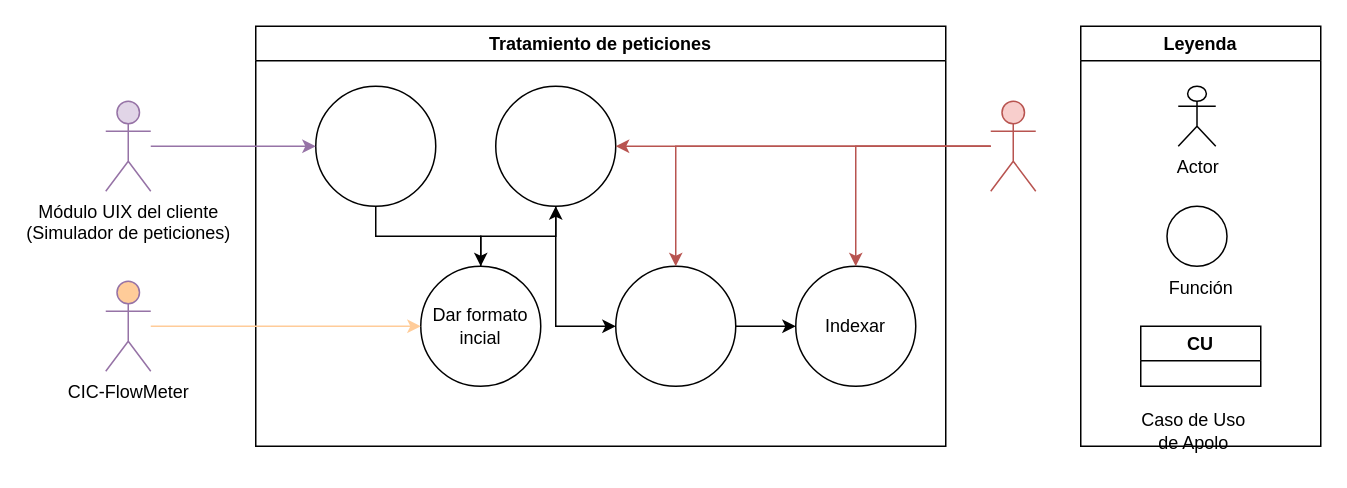
The diagram is 1347 pixels wide and 488 high, and some of its shapes have lost their labels. The shapes that lost their labels are listed below. From the top down, each one's centre as x and y in pixels, then its label:
[375,145]: Simular peticiones
[555,145]: Recibir Peticiones
[1012,145]: Módulo gestión de peticiones
[675,325]: Tratar y Distribuir
